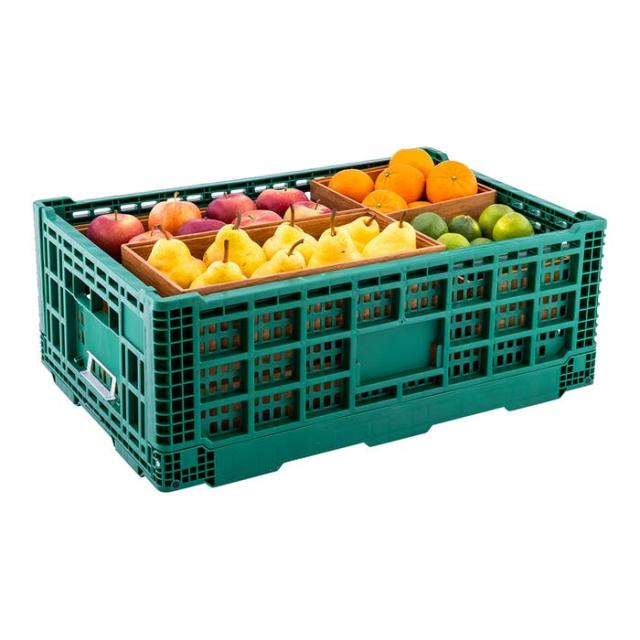basket: (27, 148, 628, 502)
